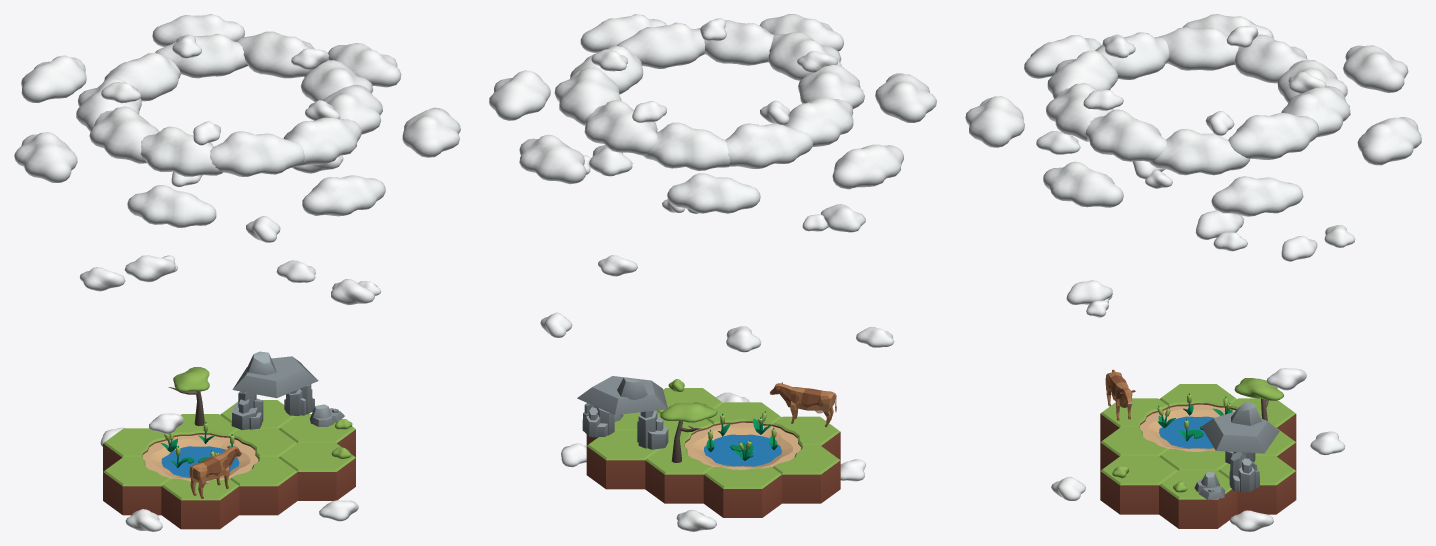
The model's file is Fall.fbx.
3 views of the same model, side by side, from view 1: azimuth 30°, elevation 25°; view 2: azimuth 150°, elevation 25°; view 3: azimuth 270°, elevation 25° (orthographic).
Parts seen in each view (by area): view 1: Clouds_Top, Fall_Land, Fall_Props, Clouds_Middle, Fall_Mist, Fall_Cow; view 2: Clouds_Top, Fall_Land, Fall_Props, Clouds_Middle, Fall_Mist, Fall_Cow; view 3: Clouds_Top, Fall_Land, Fall_Props, Clouds_Middle, Fall_Mist, Fall_Cow.
Boxes of the visible parts, <box> form: Clouds_Top: <box>14,14,460,227</box>; Fall_Land: <box>103,400,355,529</box>; Fall_Props: <box>160,351,352,468</box>; Clouds_Middle: <box>79,155,381,433</box>; Fall_Mist: <box>100,427,358,531</box>; Fall_Cow: <box>189,446,241,498</box>; Clouds_Top: <box>489,14,936,213</box>; Fall_Land: <box>586,388,840,517</box>; Fall_Props: <box>577,376,778,462</box>; Clouds_Middle: <box>540,145,894,352</box>; Fall_Mist: <box>561,392,865,531</box>; Fall_Cow: <box>769,382,836,427</box>; Clouds_Top: <box>965,14,1421,216</box>; Fall_Land: <box>1100,384,1296,528</box>; Fall_Props: <box>1112,378,1283,499</box>; Clouds_Middle: <box>1036,131,1355,390</box>; Fall_Mist: <box>1051,431,1345,531</box>; Fall_Cow: <box>1105,369,1135,420</box>.
Bounding box in the file's own units: 22.45 × 22.51 × 22.86.
Materials: 5 (2 with a texture image).
